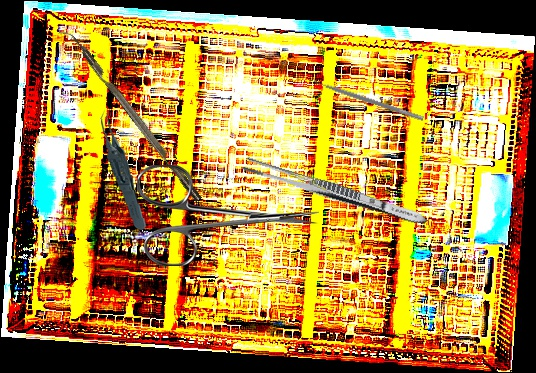Chopper: (56, 23, 202, 209)
Dressing Forceps: (239, 155, 431, 229)
Iris Scissors: (137, 165, 319, 266)
Spatula Surgical: (309, 74, 426, 122)
Tissue Forceps: (99, 104, 148, 233)
